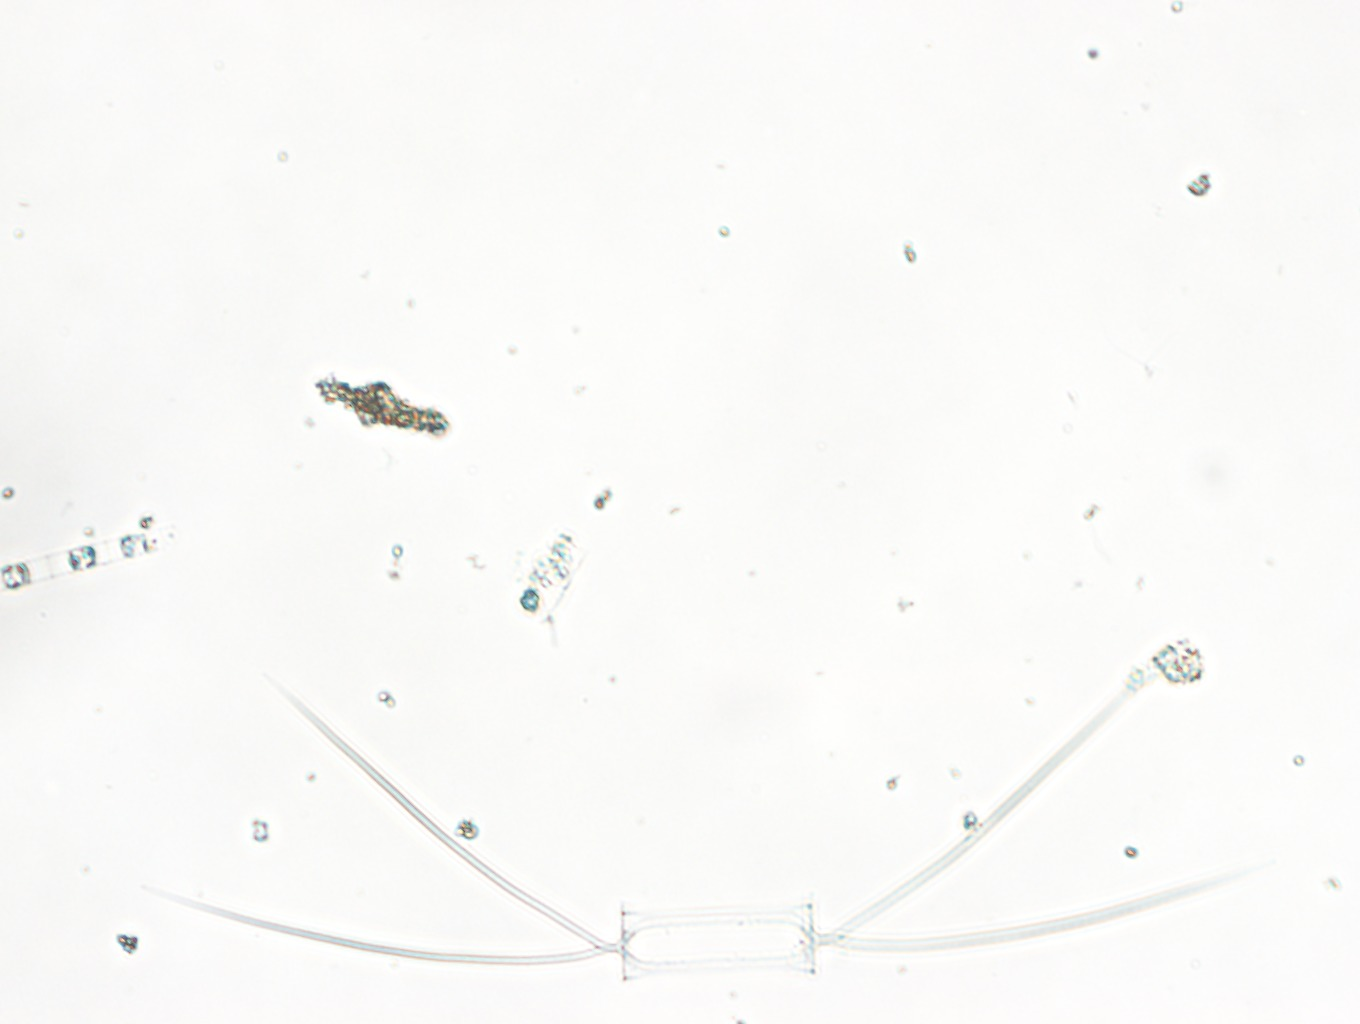chaetoceros: (172, 643, 1250, 990)
skeletonema: (1, 514, 164, 601)
